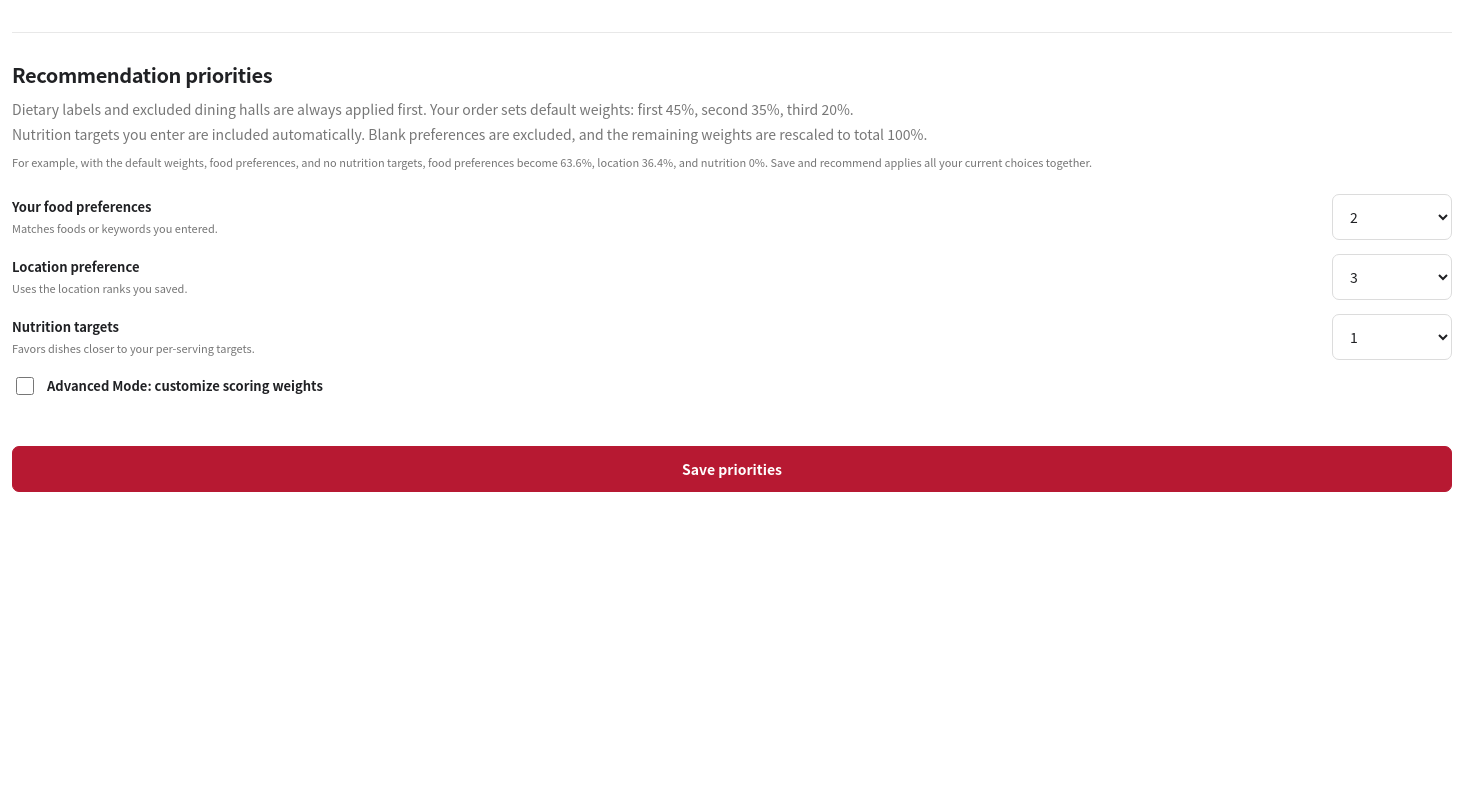
Scenario: RecommendationPriorities › falls back to server defaults for invalid legacy data and allows saving
expect the dropdown labelled "Nutrition targets" shows "1": met, box left=1332, top=314, right=1452, bottom=360
Step 1. Select "2" in the dropdown labelled "Your food preferences" → point(1392, 217), box left=1332, top=194, right=1452, bottom=240
Step 2. Submit the form, box left=12, top=194, right=1452, bottom=492
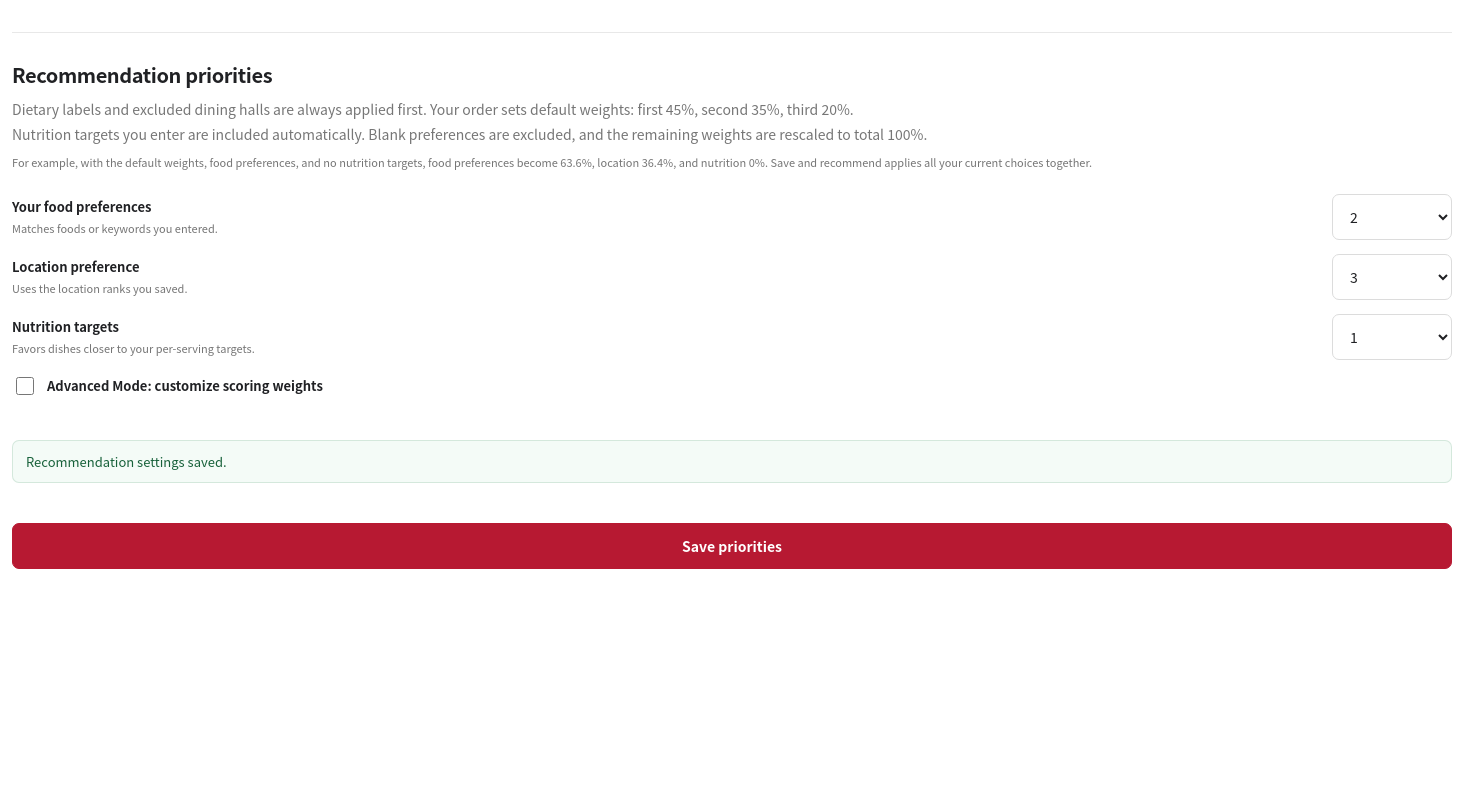
expect the message "Recommendation settings saved." is shown: met, box left=12, top=440, right=1452, bottom=483
